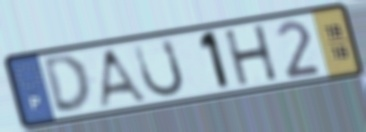1: (196, 28, 233, 92)
2: (272, 18, 324, 82)
A: (96, 46, 150, 110)
D: (40, 52, 94, 115)
H: (221, 22, 281, 89)
U: (131, 36, 187, 100)
